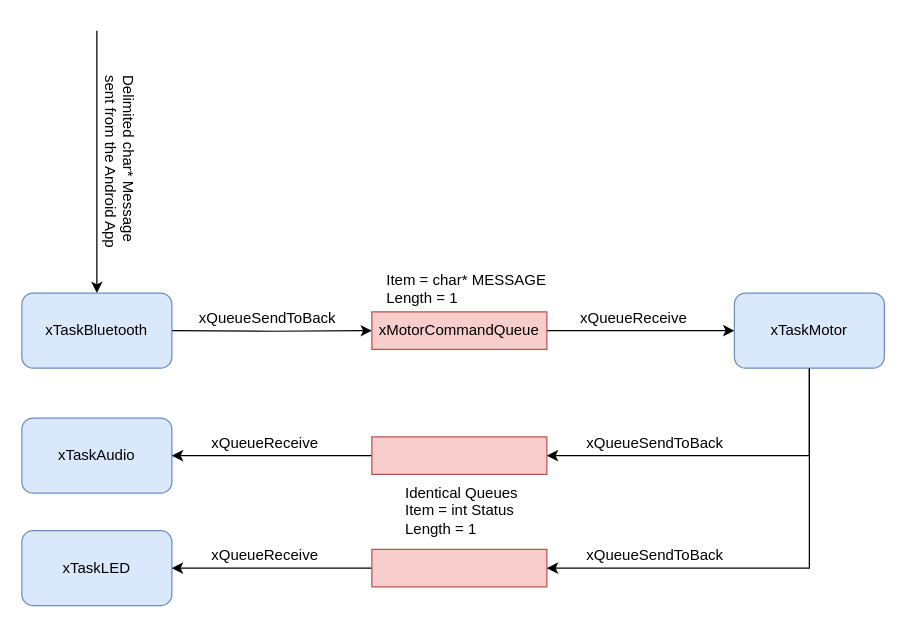
Some shapes in this 906 by 628 pixel diagram are drawn without their labels. Here are the shapes that lost their labels. From the top down, the centre of each, then its label:
(459,455): xLEDStatusQueue
(459,567): xAudioStatusQueue
